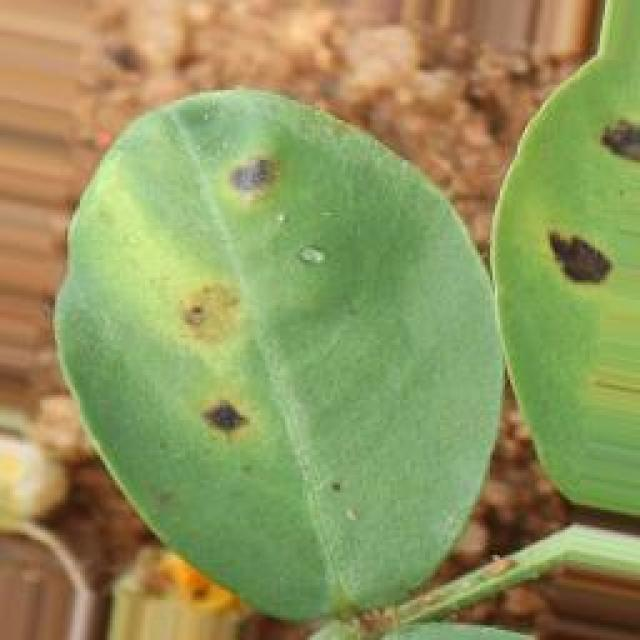Sigatoka: (512, 217, 624, 309), (172, 362, 260, 467), (165, 257, 268, 343), (210, 140, 290, 239), (292, 444, 356, 524), (600, 90, 640, 214)
